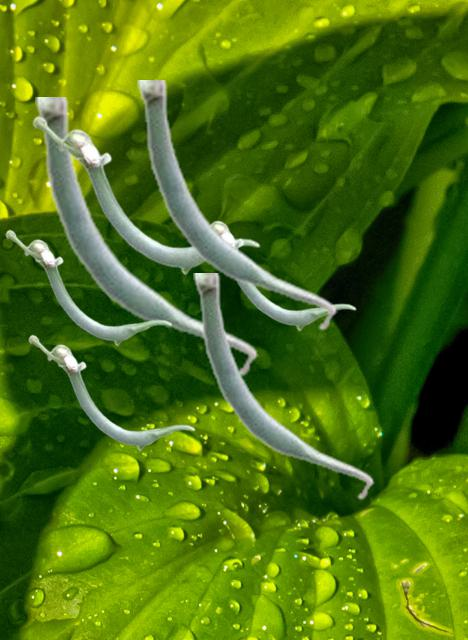french_bean: (35, 97, 257, 377), (137, 80, 336, 331), (193, 273, 373, 500), (32, 115, 259, 274), (5, 229, 171, 345), (28, 334, 194, 450), (212, 218, 355, 330)
